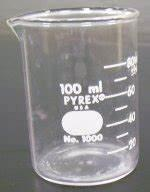Beaker: (7, 3, 142, 184)
